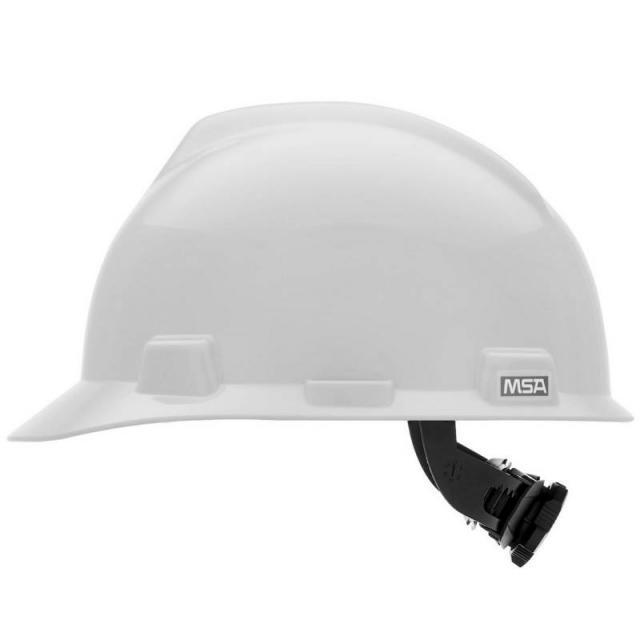safety_helmet: (9, 99, 634, 566)
